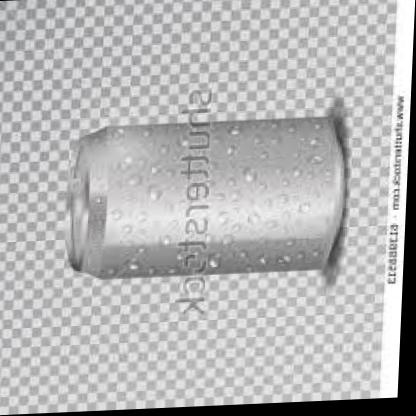trash: (67, 117, 345, 277)
